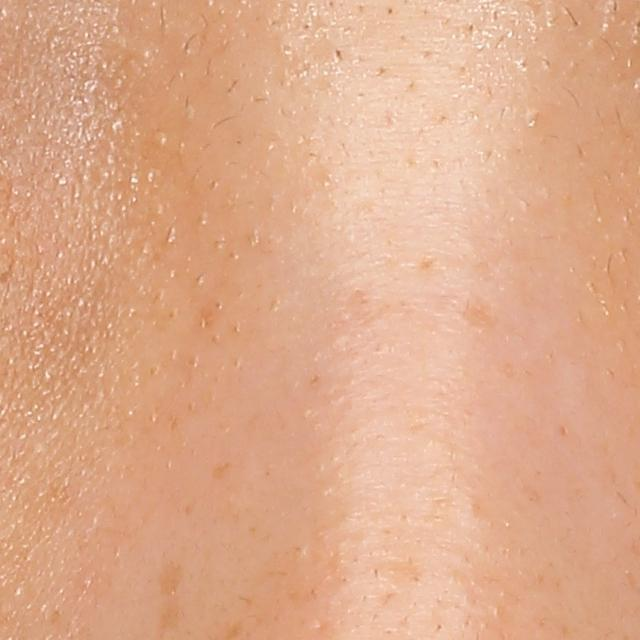melasma: (153, 554, 192, 603), (462, 293, 502, 332), (207, 458, 231, 482)
